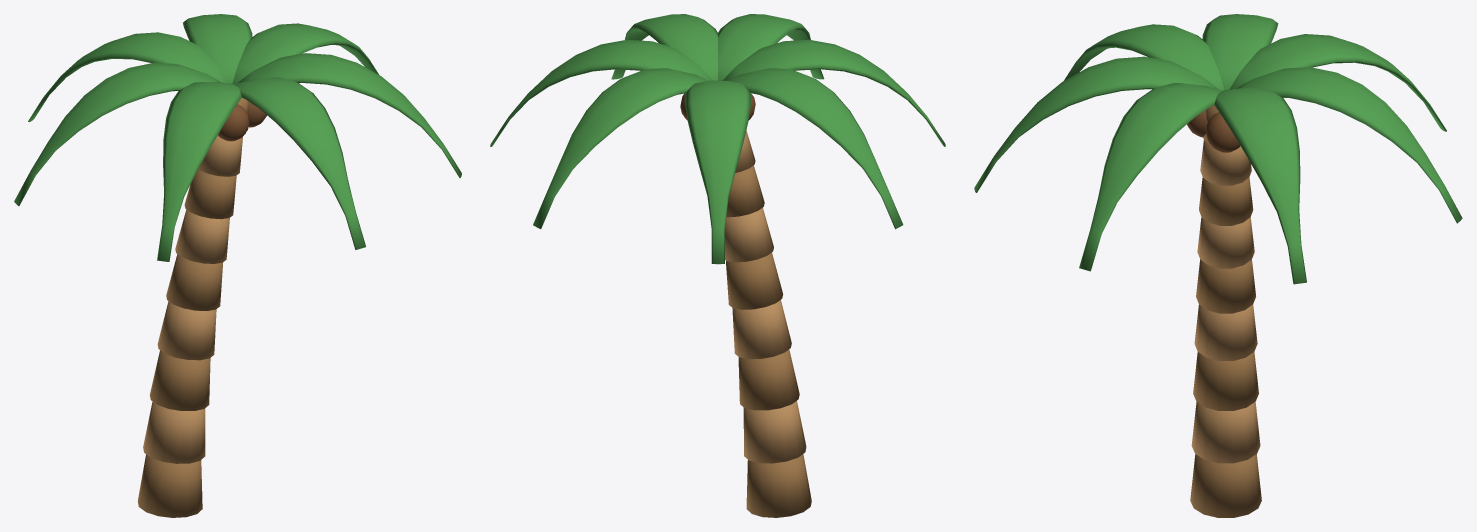
Rendered from palm.glb.
The picture shows the model from 3 angles, left to right: view 1: azimuth 30°, elevation 25°; view 2: azimuth 150°, elevation 25°; view 3: azimuth 270°, elevation 25°; orthographic projection. The views are drawn at different scales.
Visible parts, largest first — view 1: canopy, trunk; view 2: canopy, trunk; view 3: canopy, trunk.
Boxes of the visible parts, left/top/right/bottom form: canopy: left=14, top=14, right=461, bottom=261; trunk: left=137, top=97, right=248, bottom=517; canopy: left=490, top=14, right=945, bottom=264; trunk: left=724, top=130, right=811, bottom=517; canopy: left=974, top=14, right=1462, bottom=284; trunk: left=1190, top=105, right=1261, bottom=517.
Bounding box in the file's own units: 2.06 × 2.18 × 2.04.
